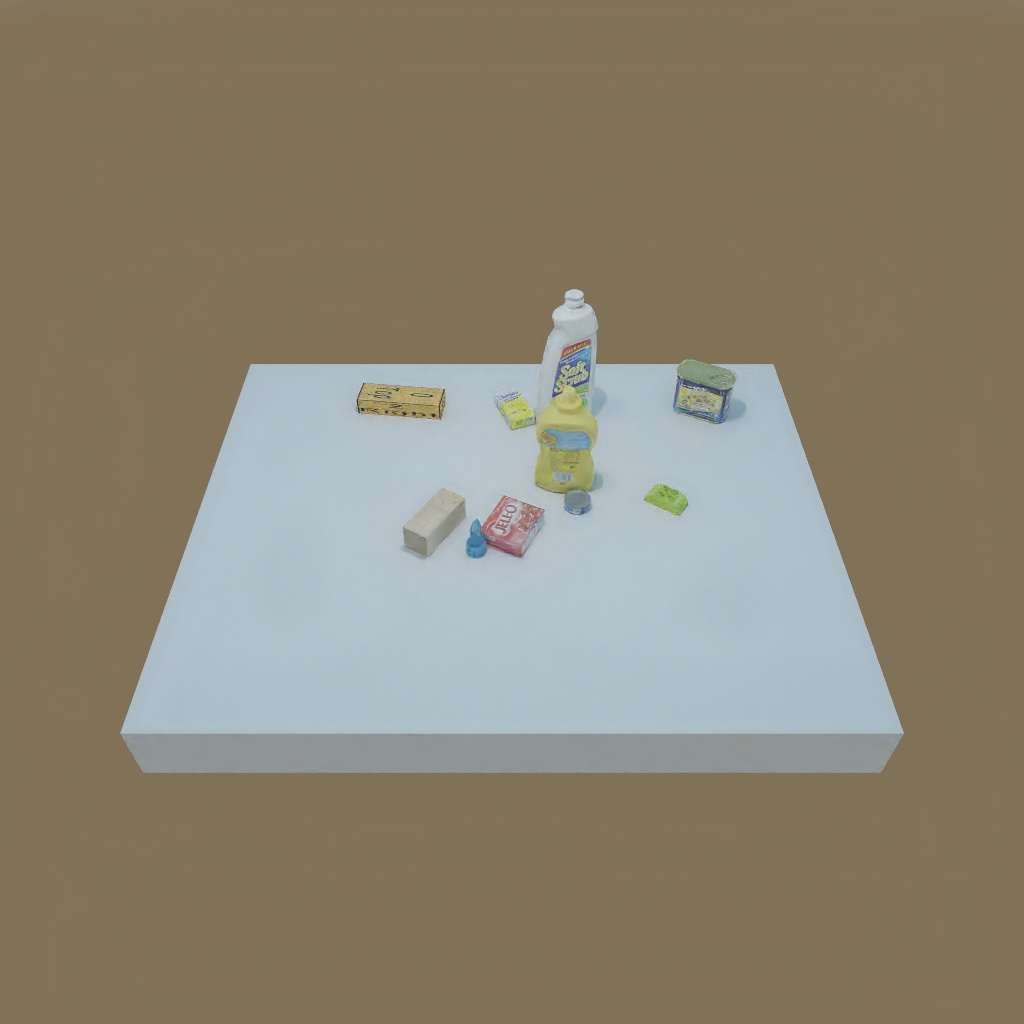gelatin_box: (482, 496, 547, 556)
jenga: (353, 375, 449, 424)
mustard_bottle: (537, 392, 595, 493)
potted_meat_can: (673, 358, 732, 426)
wood_block: (399, 487, 467, 556)
